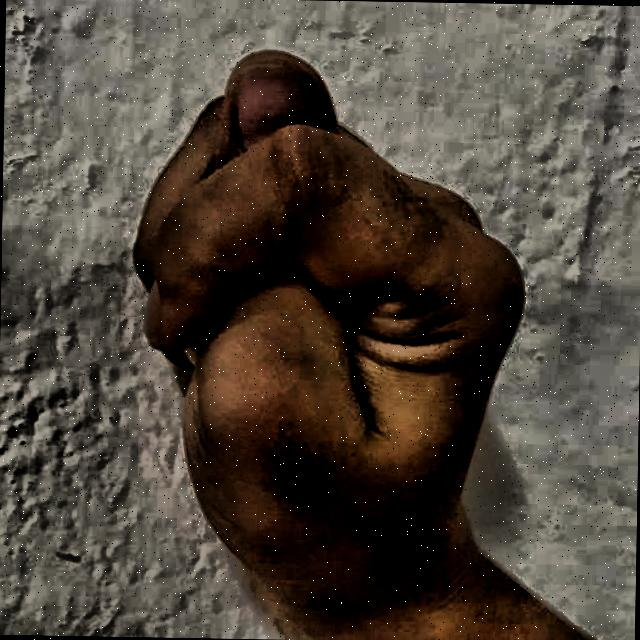Ta: (83, 7, 564, 638)
